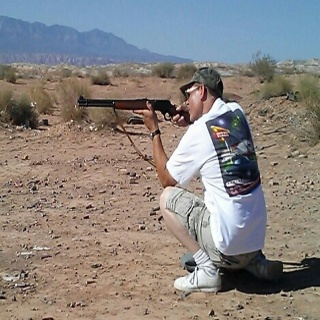shotgun: (77, 92, 193, 126)
